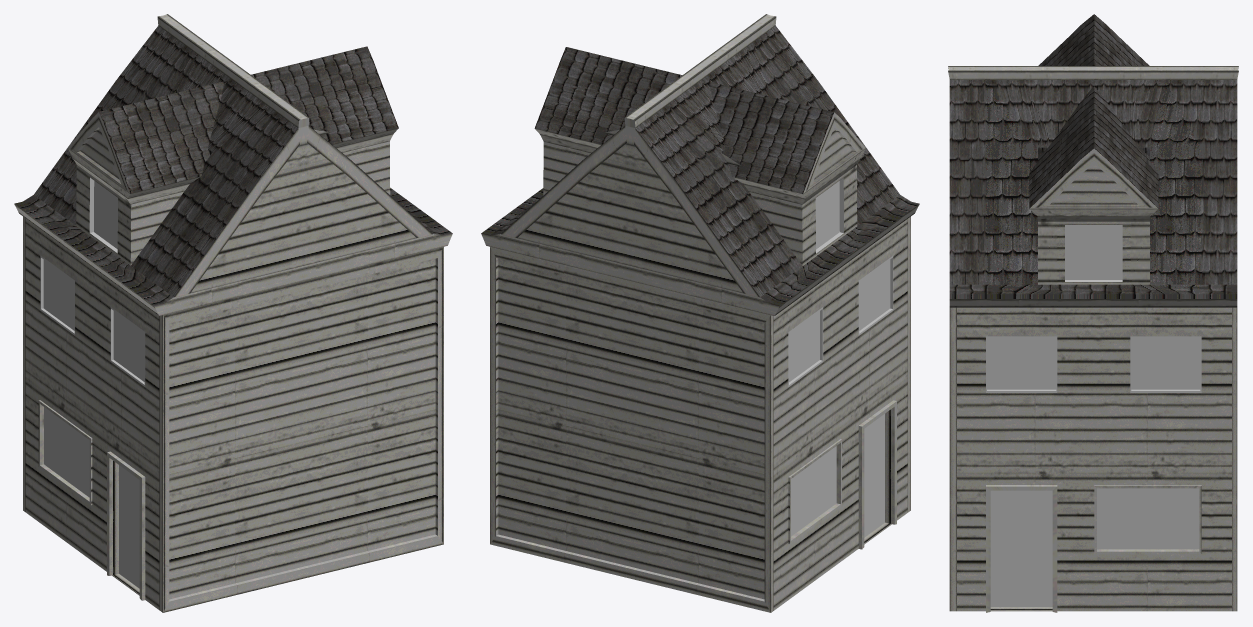
Rendered from BLDG_01_01.fbx.
The picture shows the model from 3 angles, left to right: view 1: azimuth 30°, elevation 25°; view 2: azimuth 150°, elevation 25°; view 3: azimuth 270°, elevation 25°; orthographic projection. The views are drawn at different scales.
Parts seen in each view (by area): view 1: Cube; view 2: Cube; view 3: Cube.
Part boxes in pixels (x1,y1,x2,y2): Cube: (14,14,452,612); Cube: (481,14,919,612); Cube: (948,14,1238,612).
Bounding box in the file's own units: 1363 × 2008 × 1121.
